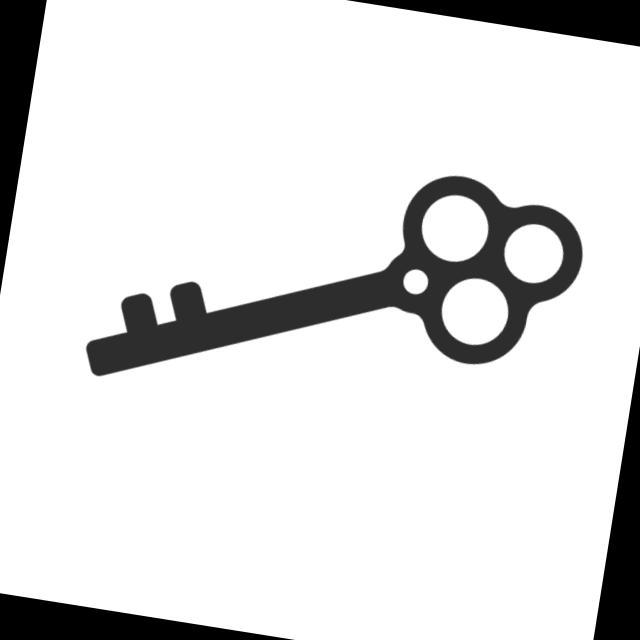key: (75, 121, 596, 458)
